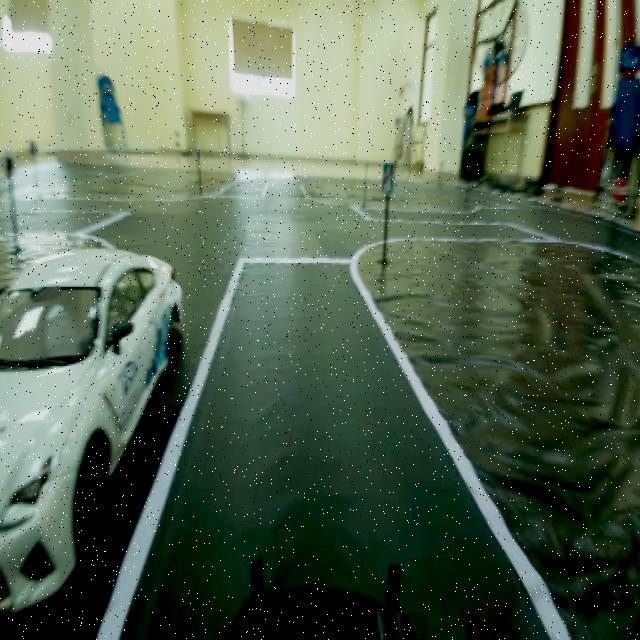car: (2, 174, 181, 621)
highway_exit: (380, 152, 398, 204)
